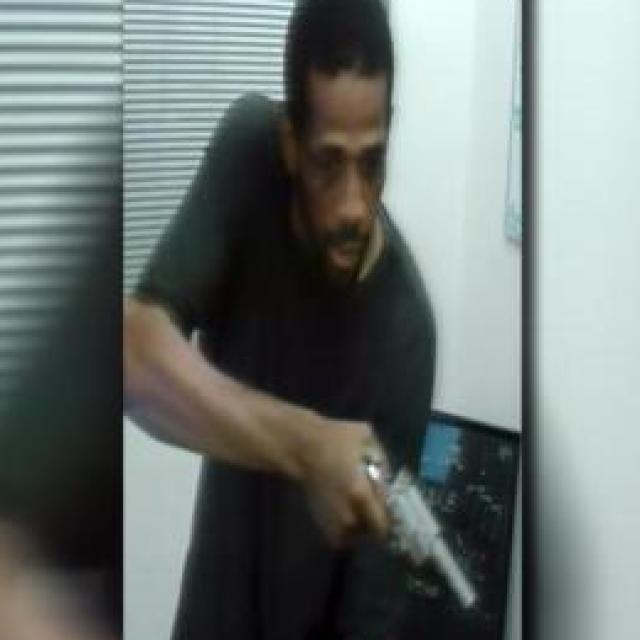pistol: (352, 440, 478, 616)
